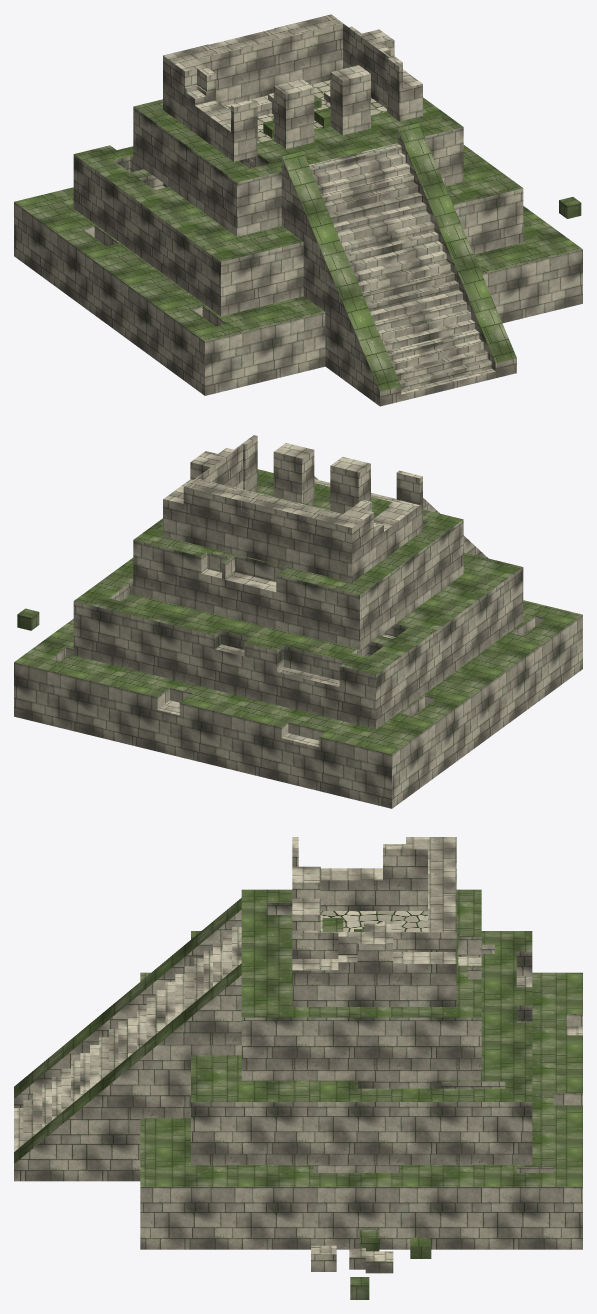
Rendered from ruin-temple-b.ruins-v1.lod1.glb.
3 views of the same model, one above another, from view 1: azimuth 30°, elevation 25°; view 2: azimuth 150°, elevation 25°; view 3: azimuth 270°, elevation 25° (orthographic). The views are drawn at different scales.
Visible parts, largest first — view 1: ruin-temple-b; view 2: ruin-temple-b; view 3: ruin-temple-b.
Boxes of the visible parts, left/top/right/bottom form: ruin-temple-b: left=14, top=14, right=582, bottom=406; ruin-temple-b: left=14, top=435, right=582, bottom=808; ruin-temple-b: left=14, top=837, right=582, bottom=1299.
Size of the model in its own units: 19.77 by 8.8 by 18.
3 materials, 3 textured.
